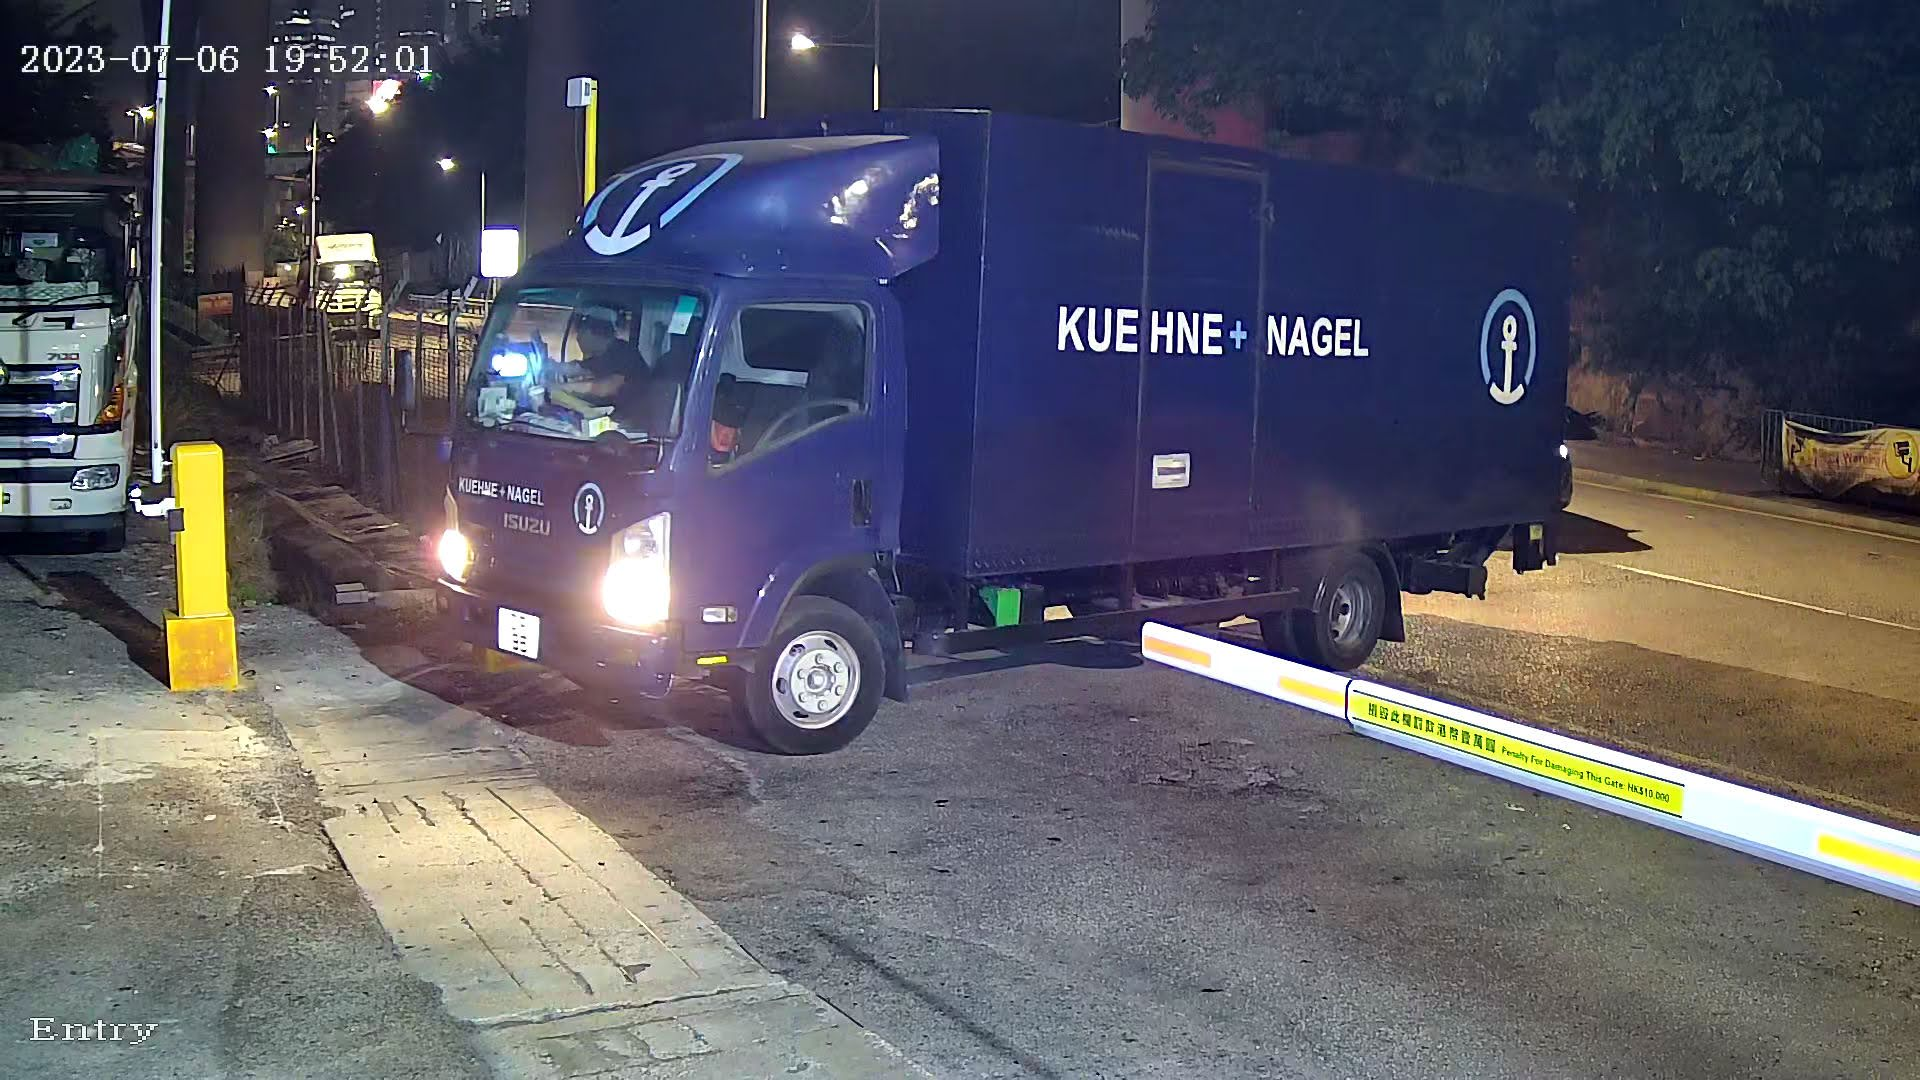truck: (347, 69, 1671, 771)
